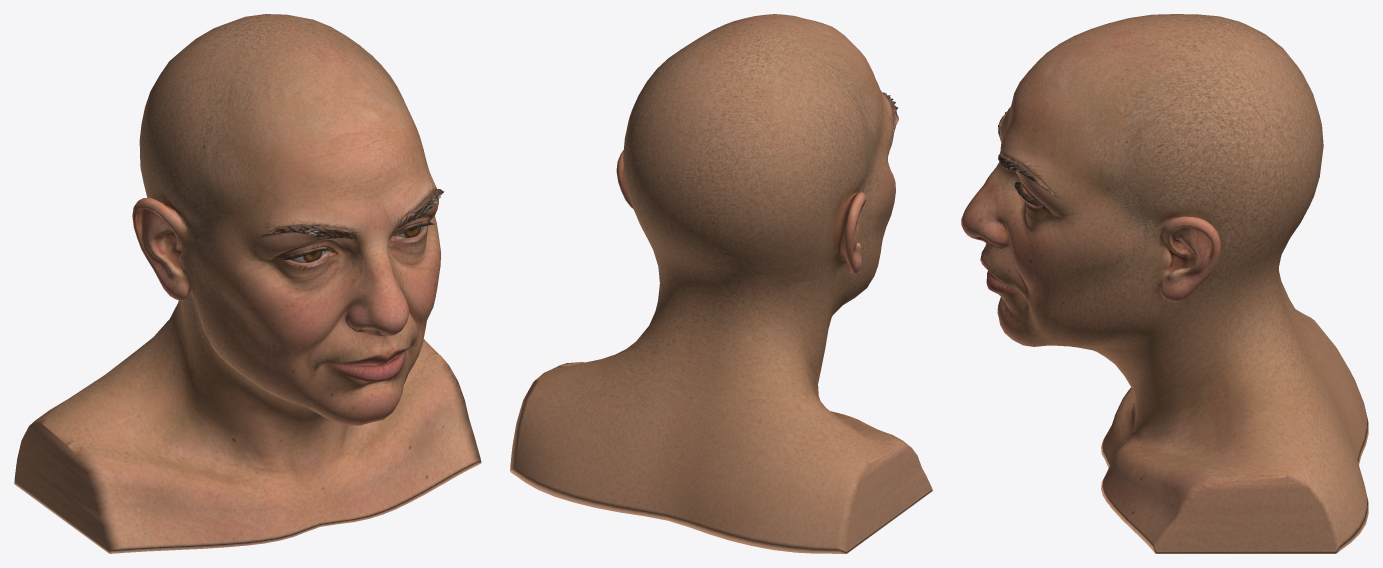
Rendered from carmela-head-p2-v1.fbx.
3 views of the same model, side by side, from view 1: azimuth 30°, elevation 25°; view 2: azimuth 150°, elevation 25°; view 3: azimuth 270°, elevation 25° (orthographic). The views are drawn at different scales.
Visible parts, largest first — view 1: b94aced0_cbf1_4377_a66a_21a2ec77a2fd; view 2: b94aced0_cbf1_4377_a66a_21a2ec77a2fd; view 3: b94aced0_cbf1_4377_a66a_21a2ec77a2fd.
Boxes of the visible parts, <box> form: b94aced0_cbf1_4377_a66a_21a2ec77a2fd: <box>14,14,481,553</box>; b94aced0_cbf1_4377_a66a_21a2ec77a2fd: <box>510,14,932,553</box>; b94aced0_cbf1_4377_a66a_21a2ec77a2fd: <box>961,14,1368,553</box>.
Bounding box in the file's own units: 0.8296 × 0.9995 × 0.8306.
Materials: 1 (1 with a texture image).
